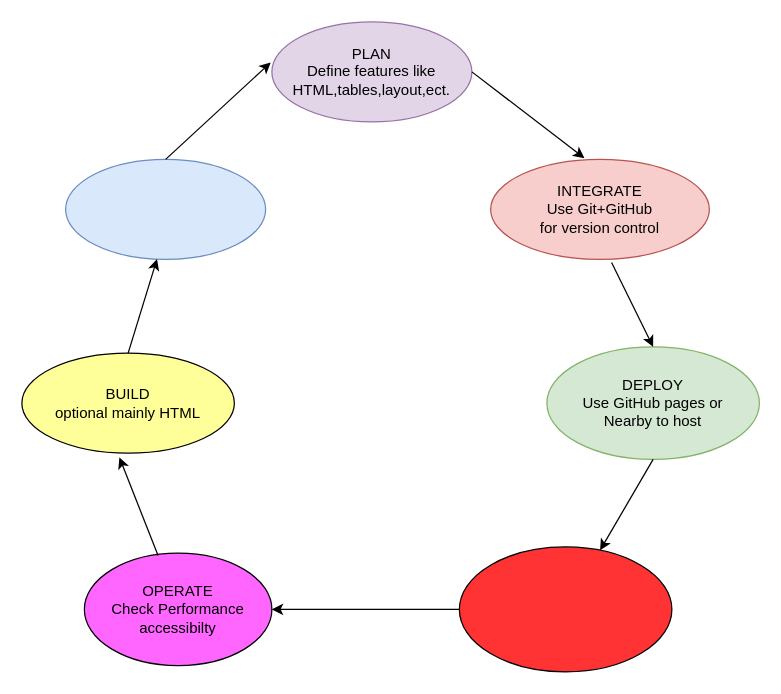
Some shapes in this 781 by 694 pixel diagram are drawn without their labels. Here are the shapes that lost their labels. From the top down, the box of each, then its label:
(64, 158, 266, 259): DEVELOP Write HTML code
(458, 546, 672, 672): MONITOR Use GitHub insights Lighthouses
